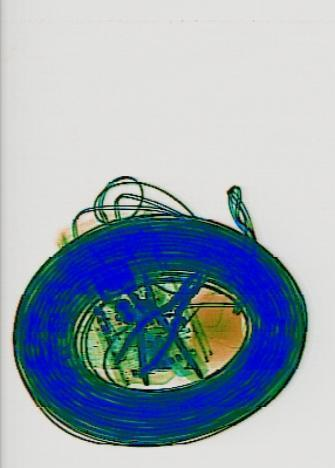Pliers: (109, 251, 212, 390), (109, 258, 203, 405)
